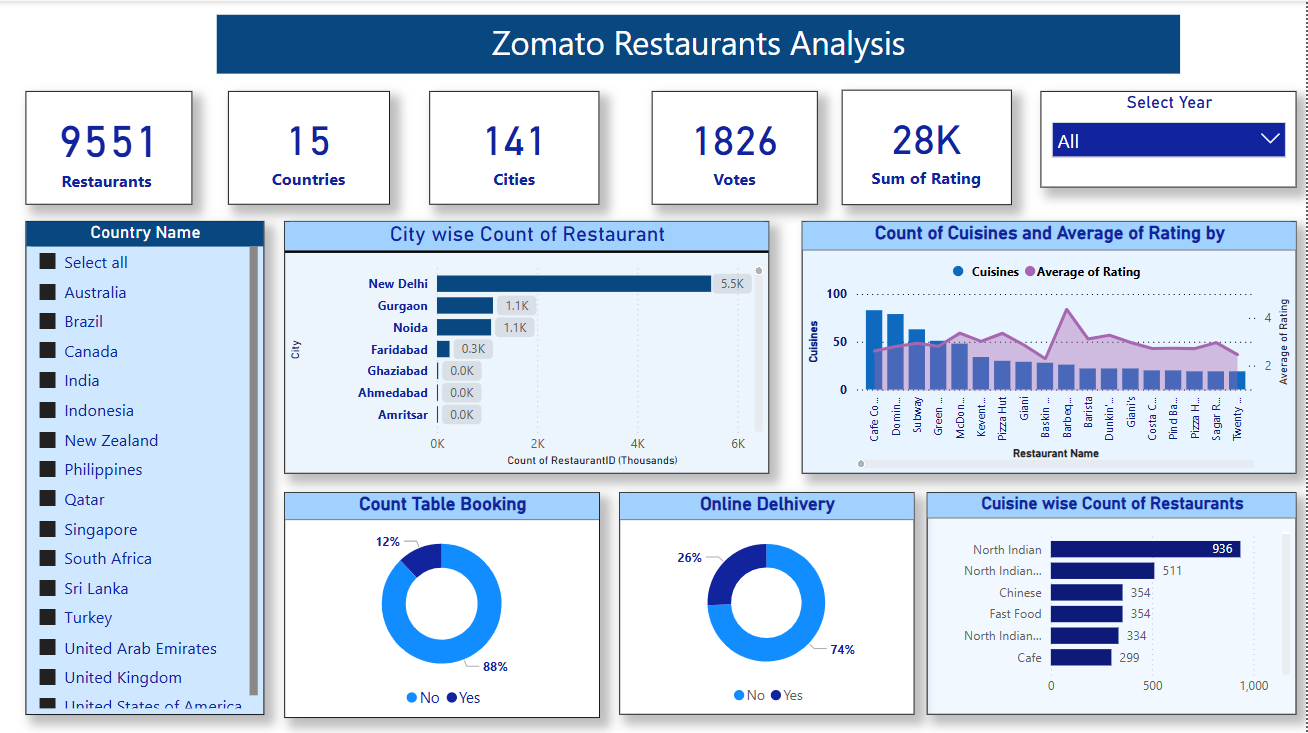

Layout of this report page (visuals, bound fields, positions):
{"tool":"powerbi","page":{"name":"DASHBOARD","canvas":[1280,720],"ordinal":0},"visuals":[{"type":"textbox","box":[214.1,13.7,942.7,57.6],"z":0},{"type":"card","title":"RESTAURANTS","fields":{"Values":["CountNonNull(Sheet1.RestaurantID)"]},"box":[27.4,87.8,163.3,111.1],"z":1000},{"type":"card","fields":{"Values":["CountNonNull(Sheet2.countryID)"]},"box":[225.2,88.4,158.2,111.2],"z":2000},{"type":"card","fields":{"Values":["Sheet1.City_"]},"box":[421.9,88.4,166.8,111.2],"z":3000},{"type":"card","fields":{"Values":["Sheet1.Cuisine"]},"box":[640,88.4,162.5,111.2],"z":4000},{"type":"card","fields":{"Values":["Sum(Cousine copy.Rating)"]},"box":[825.4,86.8,166.3,112.5],"z":5000},{"type":"slicer","title":"Select Year","fields":{"Values":["Cousine copy.FinancialYear Hierarchy.FinancialYear","Cousine copy.FinancialYear Hierarchy.MonthName","Cousine copy.FinancialYear Hierarchy.FinancialQuarter"]},"box":[1019.8,88,250.7,94.2],"z":6000},{"type":"slicer","title":"Country Name","fields":{"Values":["Sheet2.country name"]},"box":[27.4,215.4,233.3,483],"z":7000},{"type":"clusteredBarChart","title":"City wise Count of Restaurant","fields":{"Category":["Cousine copy.City"],"Y":["CountNonNull(Cousine copy.RestaurantID)"]},"box":[279.9,215.4,474.8,247],"z":8000},{"type":"donutChart","title":"Count Table Booking","fields":{"Category":["Cousine copy.Has_Table_booking"],"Y":["CountNonNull(Cousine copy.Has_Table_booking)"]},"box":[279.9,480.3,308.7,220.9],"z":9000},{"type":"lineStackedColumnComboChart","title":"Count of Cuisines and Average of Rating by   ","fields":{"Category":["Cousine copy.RestaurantName"],"Y":["CountNonNull(Cousine copy.Cuisines)"],"Y2":["Avg(Cousine copy.Rating)"]},"box":[786.3,215.2,484.2,247],"z":10000},{"type":"donutChart","title":"Online Delhivery","fields":{"Y":["CountNonNull(Cousine copy.Has_Online_delivery)"],"Category":["Cousine copy.Has_Online_delivery"]},"box":[607.7,480.6,288.6,217.7],"z":11000},{"type":"clusteredBarChart","title":"Cuisine wise Count of Restaurants","fields":{"Category":["Cousine copy.Cuisines"],"Y":["CountNonNull(Cousine copy.RestaurantID)"]},"box":[908.6,480.6,362,217.7],"z":12000}]}

Visuals, with their boxes in screenshot pixels (x1, y1, x2, y2), scaled from the page's 1280x720 canvas onto the 1308x733 screenshot:
textbox: (219, 14, 1182, 73)
"RESTAURANTS" card: (28, 89, 195, 202)
card - CountNonNull(Sheet2.countryID): (230, 90, 392, 203)
card - Sheet1.City_: (431, 90, 602, 203)
card - Sheet1.Cuisine: (654, 90, 820, 203)
card - Sum(Cousine copy.Rating): (843, 88, 1013, 203)
"Select Year" slicer: (1042, 90, 1298, 185)
"Country Name" slicer: (28, 219, 266, 711)
"City wise Count of Restaurant" clusteredBarChart: (286, 219, 771, 471)
"Count Table Booking" donutChart: (286, 489, 601, 714)
"Count of Cuisines and Average of Rating by   " lineStackedColumnComboChart: (804, 219, 1298, 471)
"Online Delhivery" donutChart: (621, 489, 916, 711)
"Cuisine wise Count of Restaurants" clusteredBarChart: (928, 489, 1298, 711)
